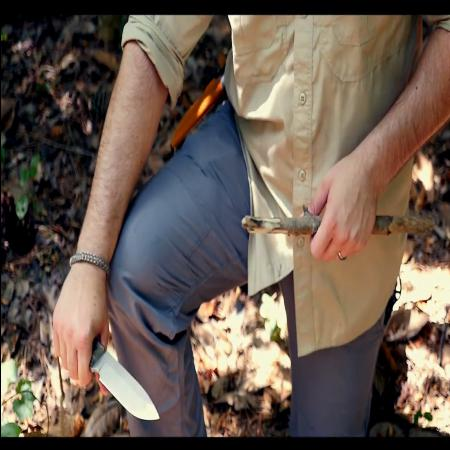long weapon: (49, 311, 162, 425)
